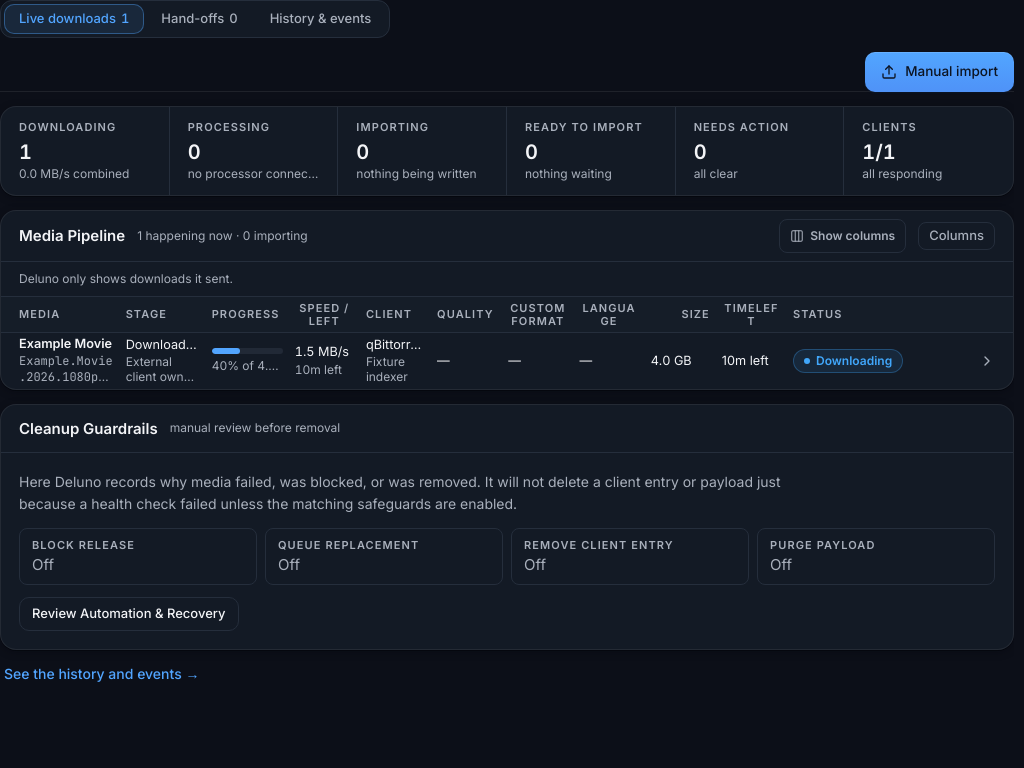
download drawer: In the client › while one action is out, every other button in the drawer is closed
Click the text "Example.Movie.2026.1080p.WEB-DL-GROUP": (507, 360) 1,332 -> 1013,388
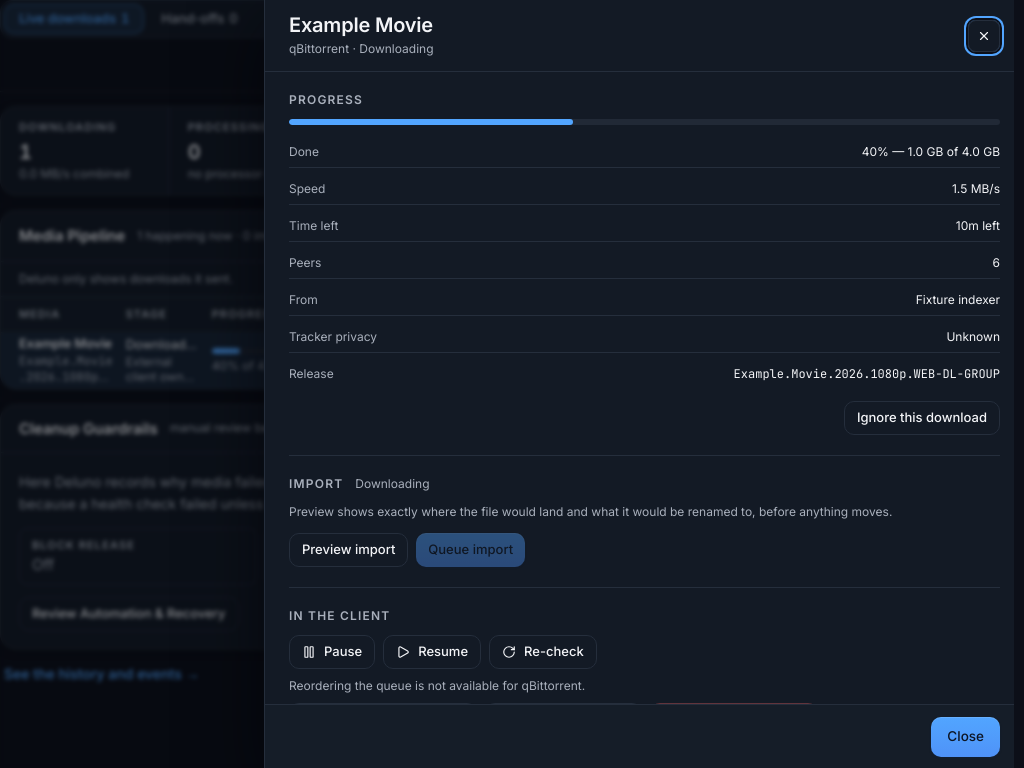
Click the button "Pause": (332, 652) 289,635 -> 375,669
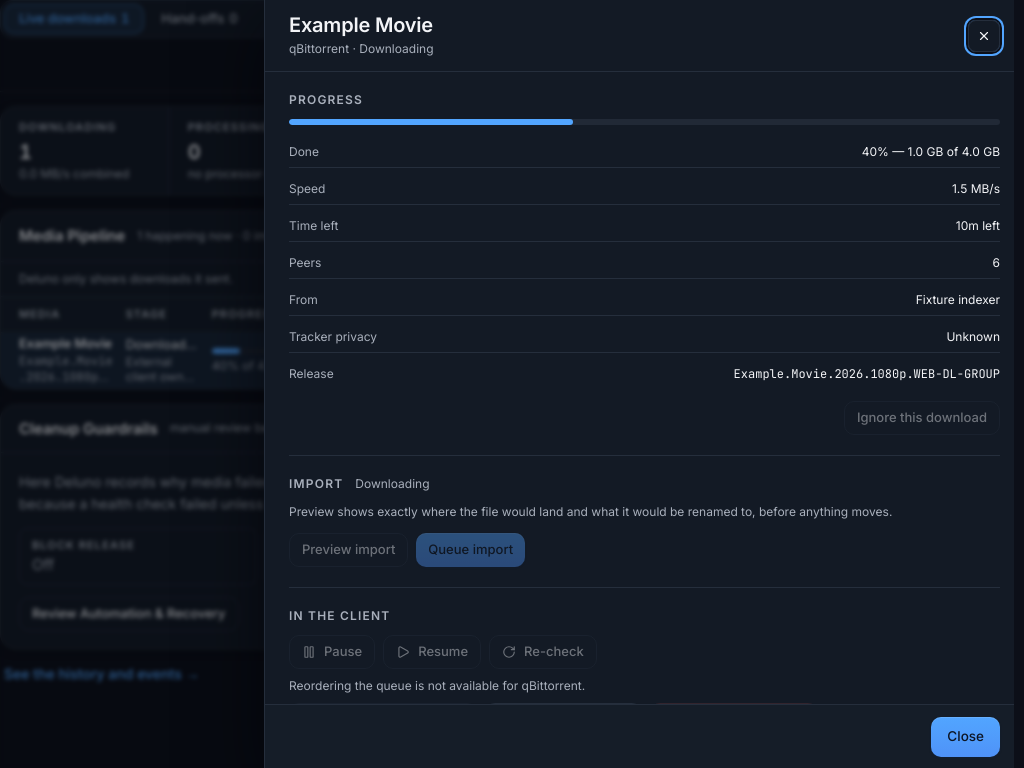
Result: the button "Resume" is disabled at 383,635 -> 481,669
Result: the button "Re-check" is disabled at 489,635 -> 597,669
